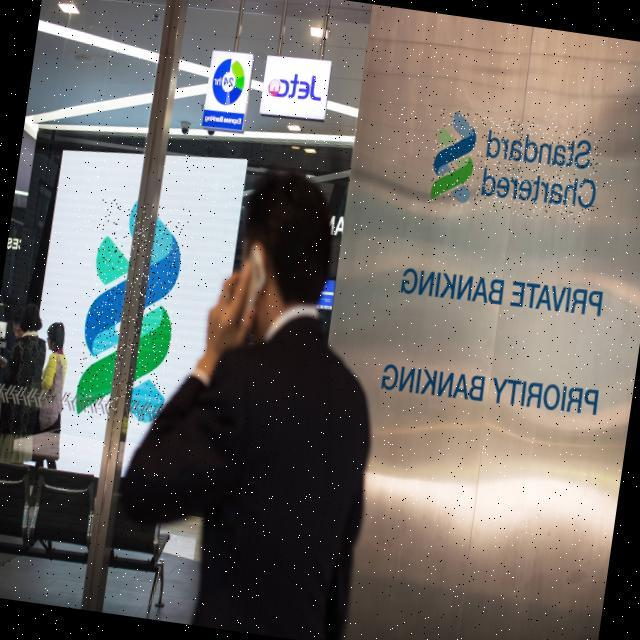Standard Chartered: (72, 198, 190, 428), (426, 108, 605, 227)
